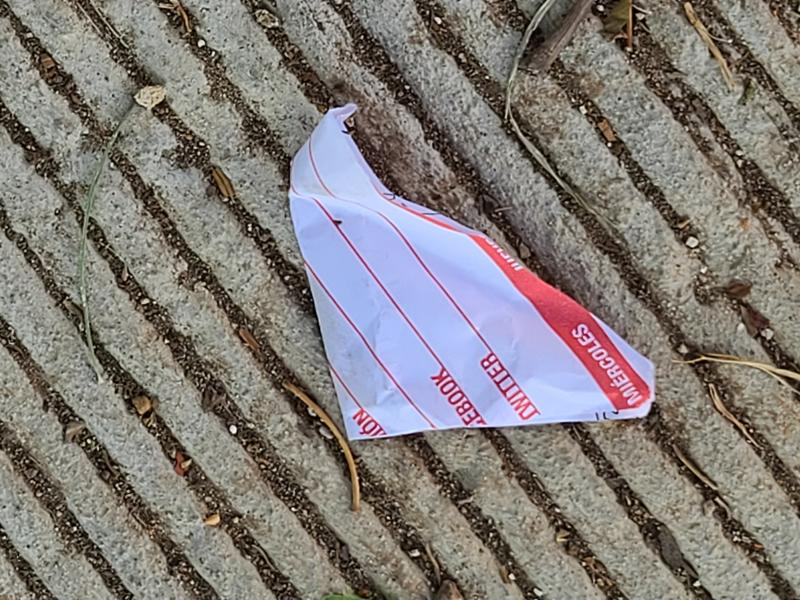papel: (287, 105, 657, 444)
